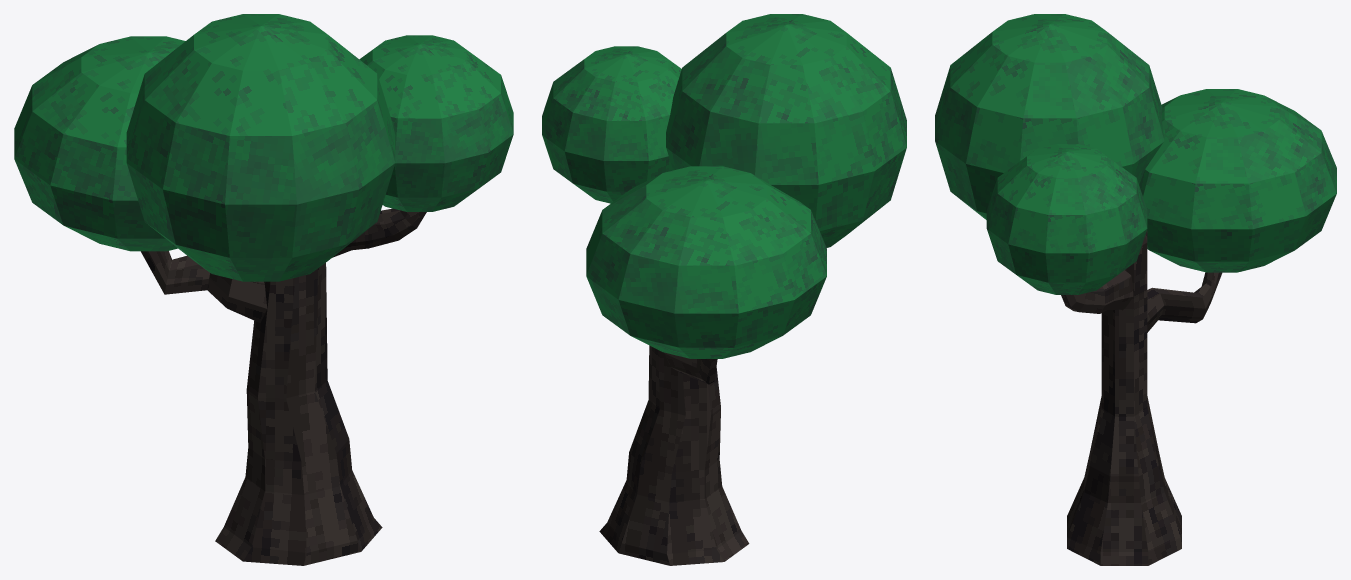
The model's file is tree_3.gltf.
3 renders of one model, left to right at view 1: azimuth 30°, elevation 25°; view 2: azimuth 150°, elevation 25°; view 3: azimuth 270°, elevation 25°, orthographic. The views are drawn at different scales.
Parts seen in each view (by area): view 1: sphere (×3), cylinder (×3); view 2: sphere (×3), cylinder (×2); view 3: sphere (×3), cylinder (×3).
Boxes of the visible parts, x1,y1,x2,y2 form: sphere (×3): (14, 14, 513, 281); cylinder (×3): (141, 208, 426, 565); sphere (×3): (542, 14, 906, 358); cylinder (×2): (599, 345, 749, 565); sphere (×3): (935, 14, 1336, 294); cylinder (×3): (1061, 230, 1222, 565).
Bounding box in the file's own units: 1.62 × 2.3 × 1.75.
Materials: 2 (2 with a texture image).
